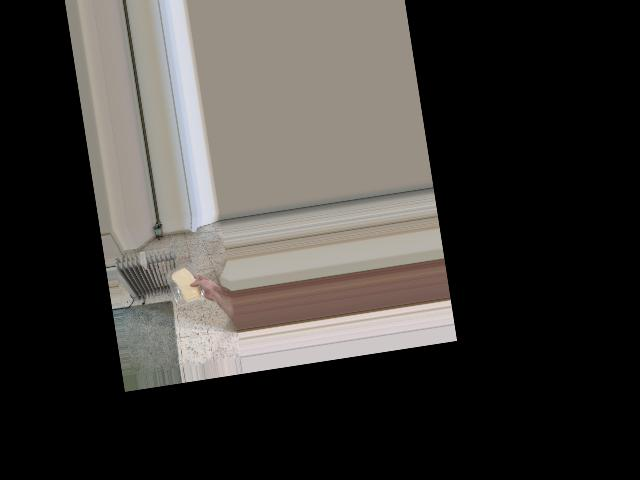cheese: (169, 262, 203, 306)
